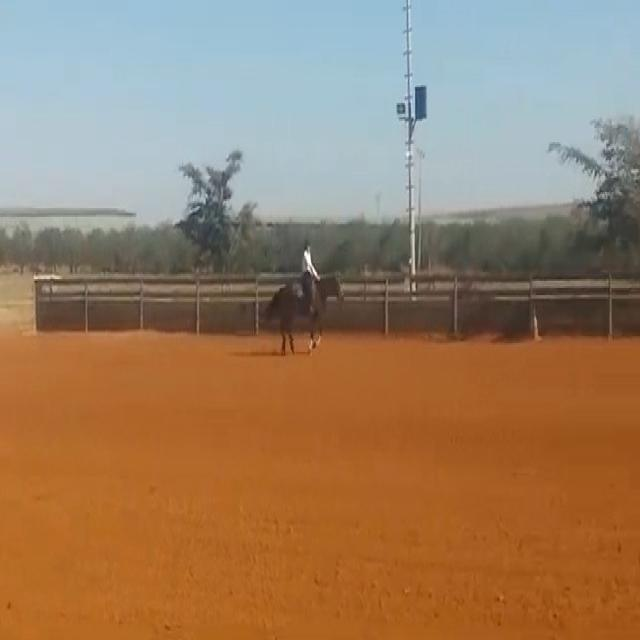horse: (257, 268, 345, 356)
